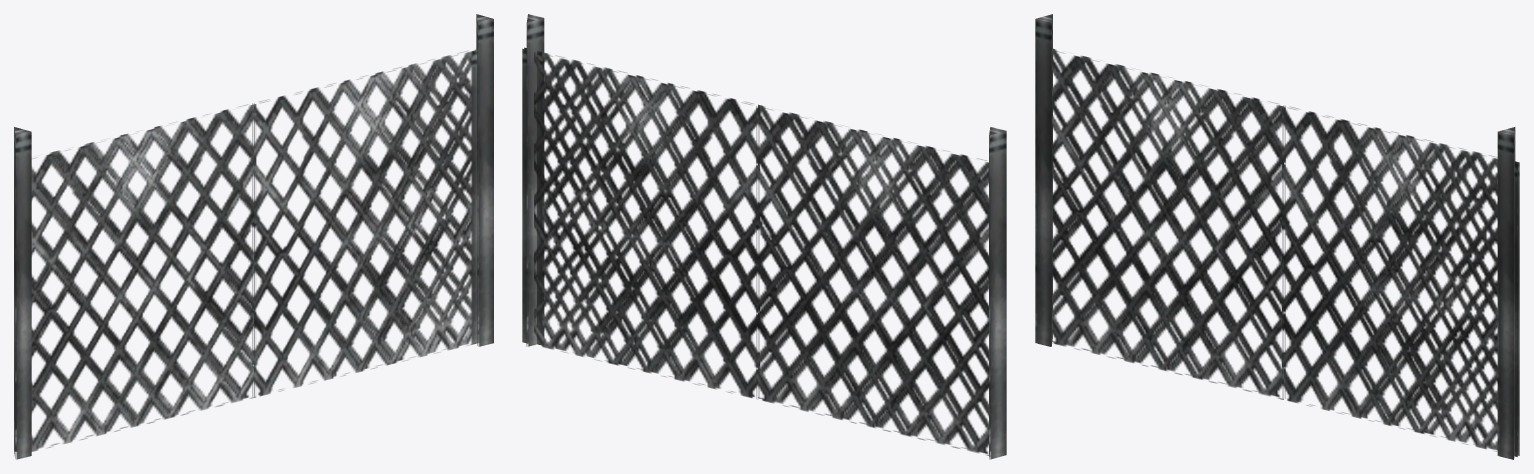
The model's file is Environment - Prop - Chain Link Fence 01 - Damaged - PMWallChn2_D.glb.
3 renders of one model, left to right at view 1: azimuth 30°, elevation 25°; view 2: azimuth 150°, elevation 25°; view 3: azimuth 330°, elevation 25°, orthographic.
Visible parts, largest first — view 1: PMWALLCHN2_D; view 2: PMWALLCHN2_D; view 3: PMWALLCHN2_D.
Part boxes in pixels (x1,y1,x2,y2): PMWALLCHN2_D: (14,14,493,459); PMWALLCHN2_D: (522,14,1006,459); PMWALLCHN2_D: (1035,14,1519,459).
Size of the model in its own units: 28.35 by 18.36 by 0.9621.
1 material, 1 textured.
